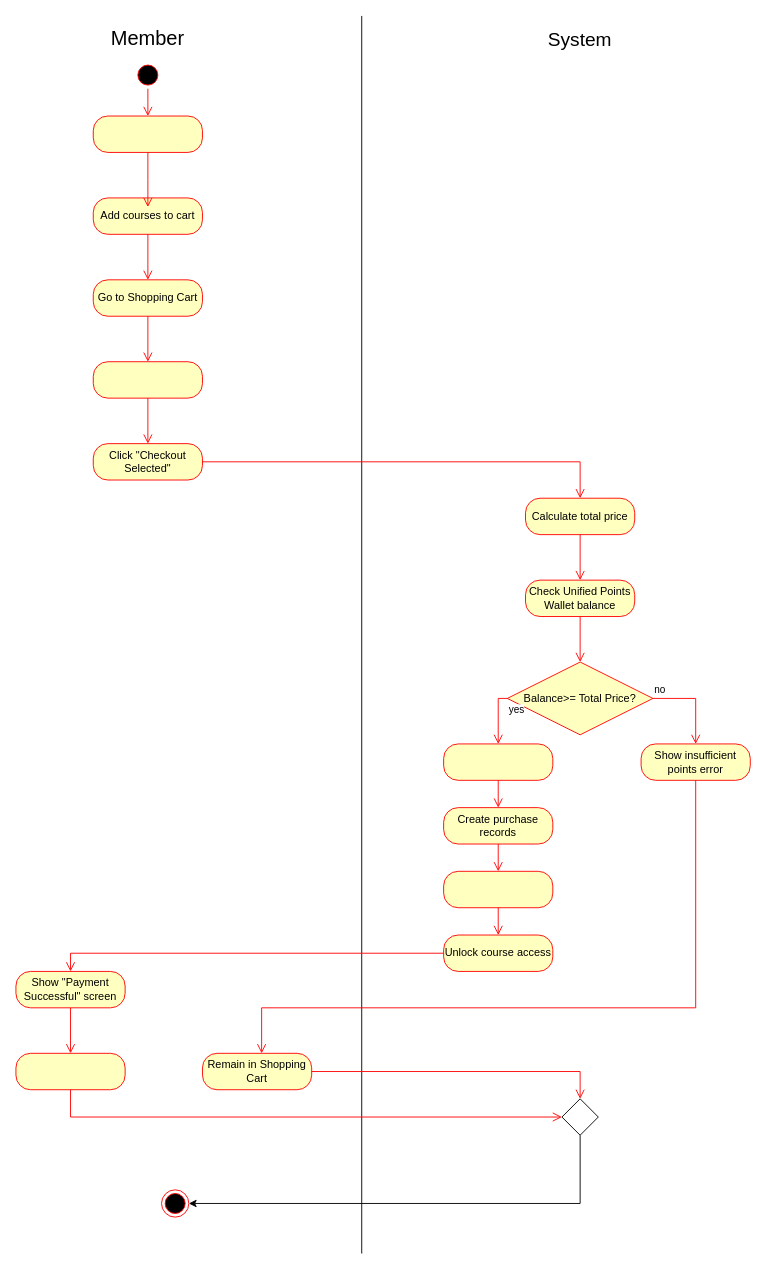
Some shapes in this 766 by 1270 pixel diagram are drawn without their labels. Here are the shapes that lost their labels. From the top down, the box of each, then its label:
(92, 115, 202, 152): Browse Course Marketplace
(92, 361, 202, 398): Review checkout summary
(443, 743, 553, 780): Deduct points
(443, 870, 553, 908): Update trainer income
(15, 1052, 125, 1090): Go to My Courses
